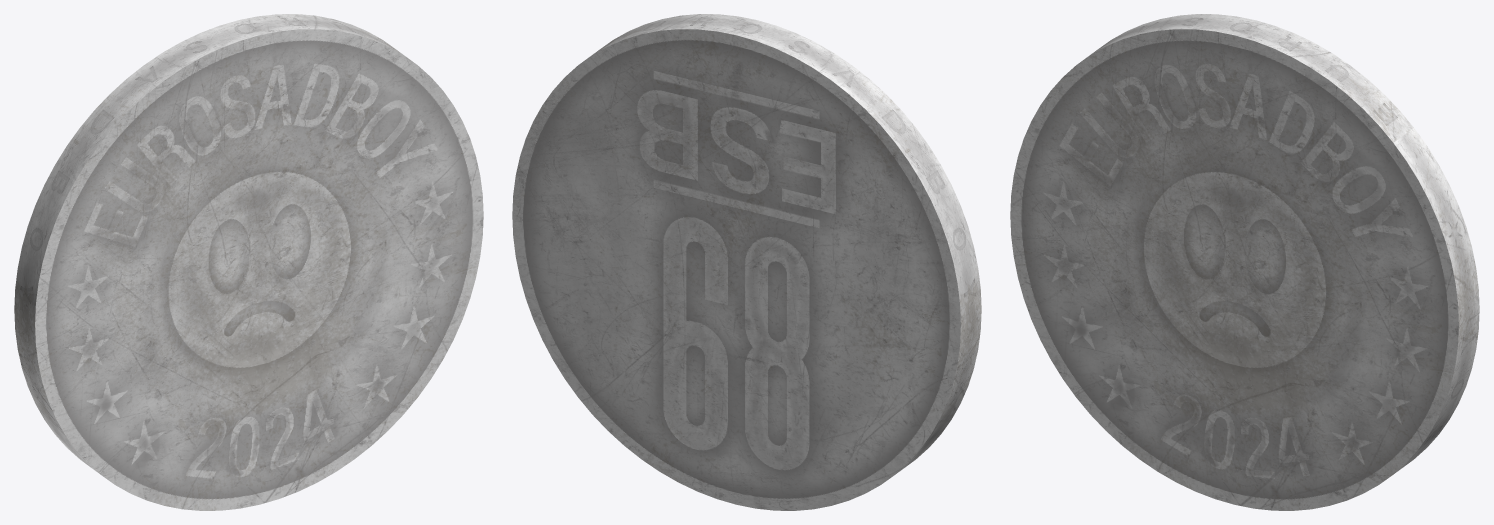
The model's file is coin.glb.
The picture shows the model from 3 angles, left to right: view 1: azimuth 30°, elevation 25°; view 2: azimuth 150°, elevation 25°; view 3: azimuth 330°, elevation 25°; orthographic projection.
Visible parts, largest first — view 1: Disc; view 2: Disc; view 3: Disc.
Boxes of the visible parts, box(x1,y1,x2,y2) form: Disc: box(14, 14, 483, 510); Disc: box(512, 14, 981, 510); Disc: box(1010, 14, 1479, 510).
Bounding box in the file's own units: 25 × 25 × 2.
1 material, 1 textured.
